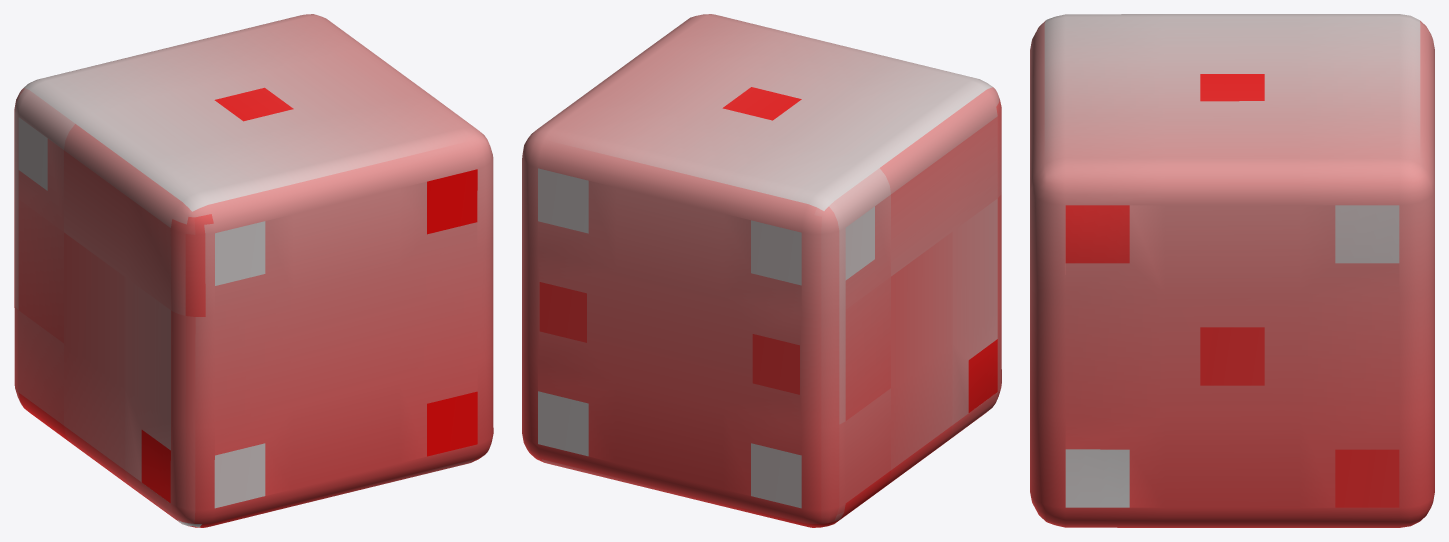
The model's file is VamfireDice.fbx.
3 renders of one model, left to right at view 1: azimuth 30°, elevation 25°; view 2: azimuth 150°, elevation 25°; view 3: azimuth 270°, elevation 25°, orthographic. The views are drawn at different scales.
Visible parts, largest first — view 1: Poison.001; view 2: Poison.001; view 3: Poison.001.
Boxes of the visible parts, box(x1,y1,x2,y2) form: Poison.001: box(14, 14, 493, 527); Poison.001: box(522, 14, 1001, 527); Poison.001: box(1030, 14, 1434, 527).
Bounding box in the file's own units: 200 × 200 × 200.
